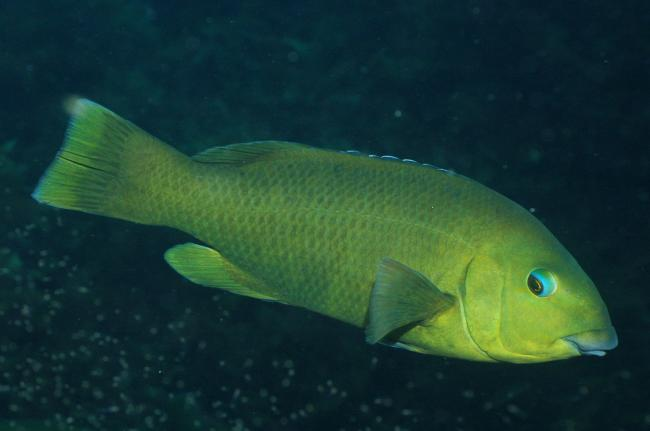fish: (31, 97, 618, 362)
